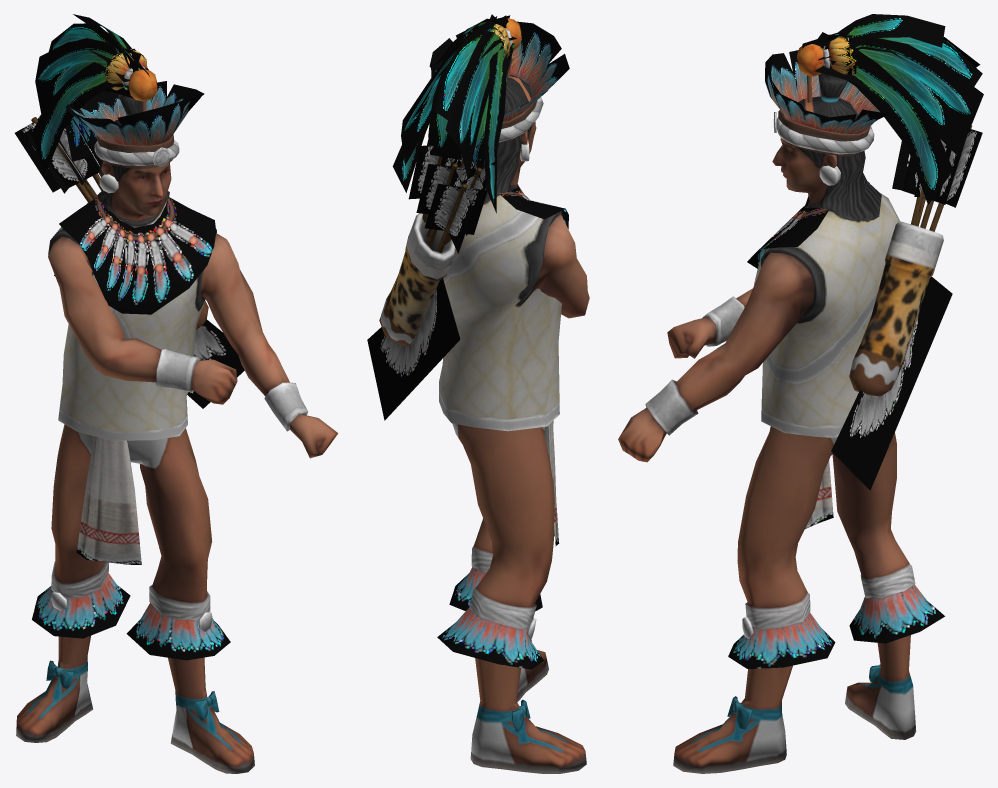
File: body-heavywarhutsoldiers.glb
The picture shows the model from 3 angles, left to right: view 1: azimuth 30°, elevation 25°; view 2: azimuth 150°, elevation 25°; view 3: azimuth 270°, elevation 25°; orthographic projection. The views are drawn at different scales.
Bounding box in the file's own units: 0.7833 × 2.34 × 1.07.
Materials: 2 (2 with a texture image).
